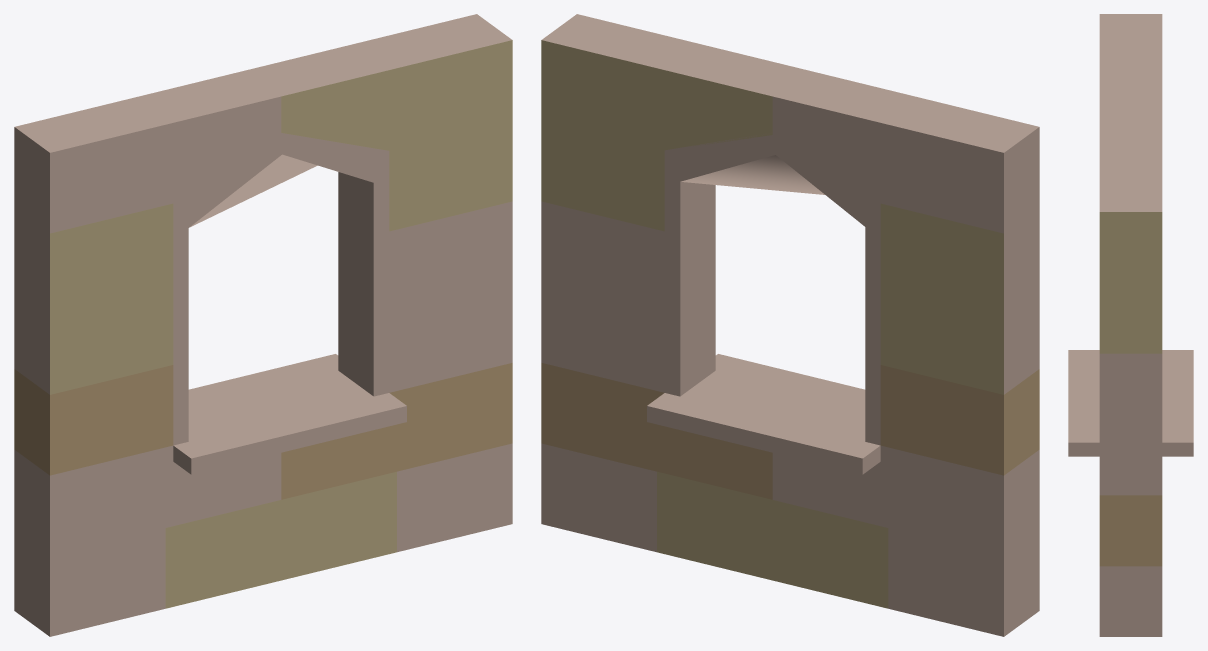
File: bow_window.FBX
The picture shows the model from 3 angles, left to right: view 1: azimuth 30°, elevation 25°; view 2: azimuth 150°, elevation 25°; view 3: azimuth 270°, elevation 25°; orthographic projection. The views are drawn at different scales.
Parts seen in each view (by area): view 1: Cube.040; view 2: Cube.040; view 3: Cube.040.
Boxes of the visible parts, x1,y1,x2,y2 form: Cube.040: (14,14,512,636); Cube.040: (541,14,1039,636); Cube.040: (1068,14,1193,636).
Size of the model in its own units: 300 by 300 by 80.
